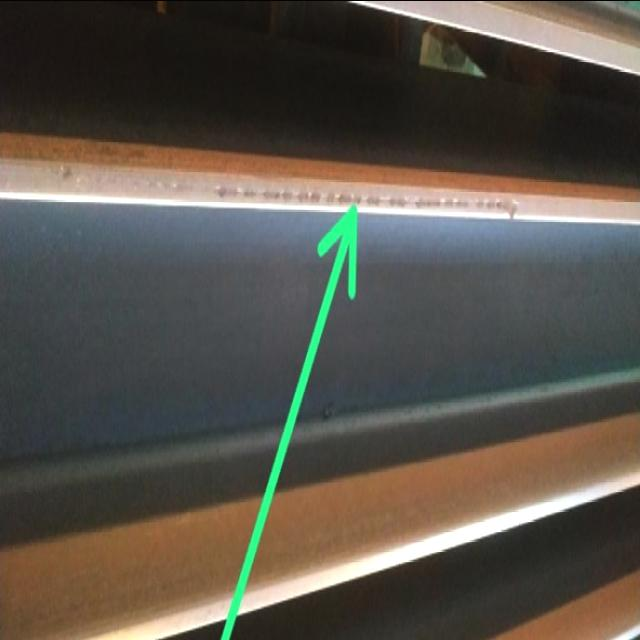defect: (216, 185, 519, 216)
